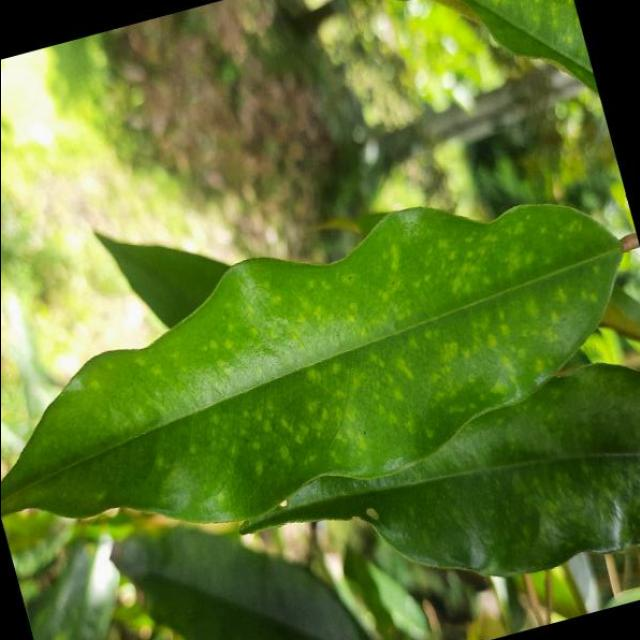Leaf Spot: (0, 147, 640, 599)
